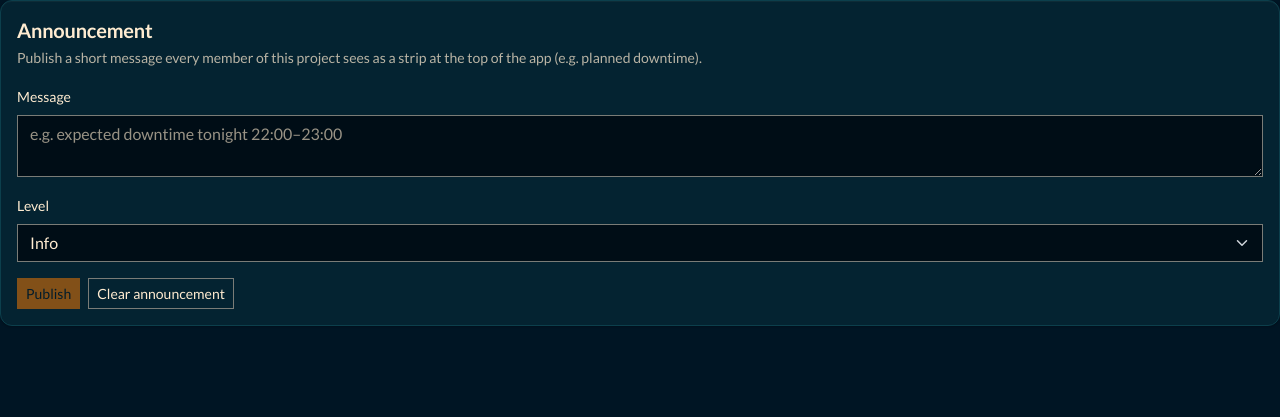
Test: AnnouncementComposer › clears the announcement
Expected: the text box labelled "Message" is shown, [17,115,1263,177]
Click the button "Clear announcement" at (161, 294), box [88,278,234,309]
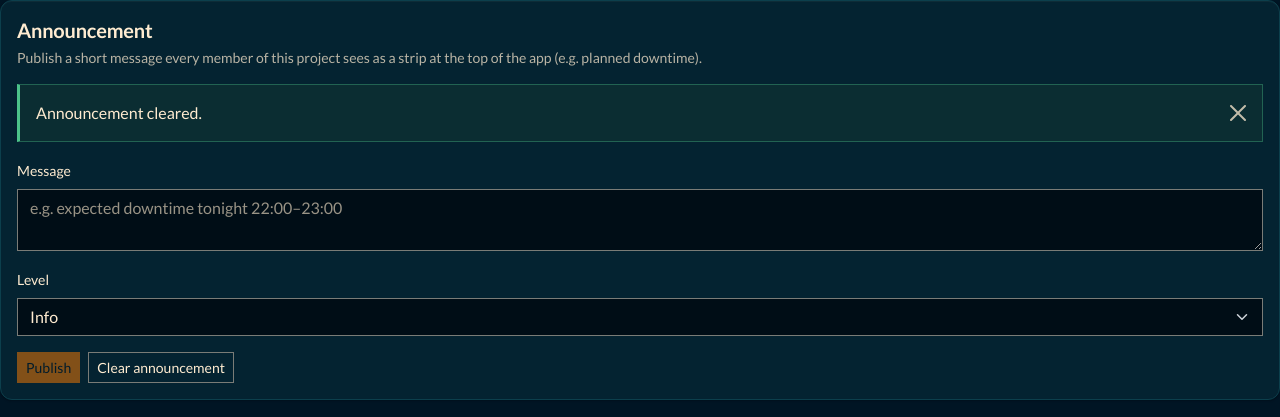
Result: the text "Announcement cleared." is shown at [17,84,1263,142]
